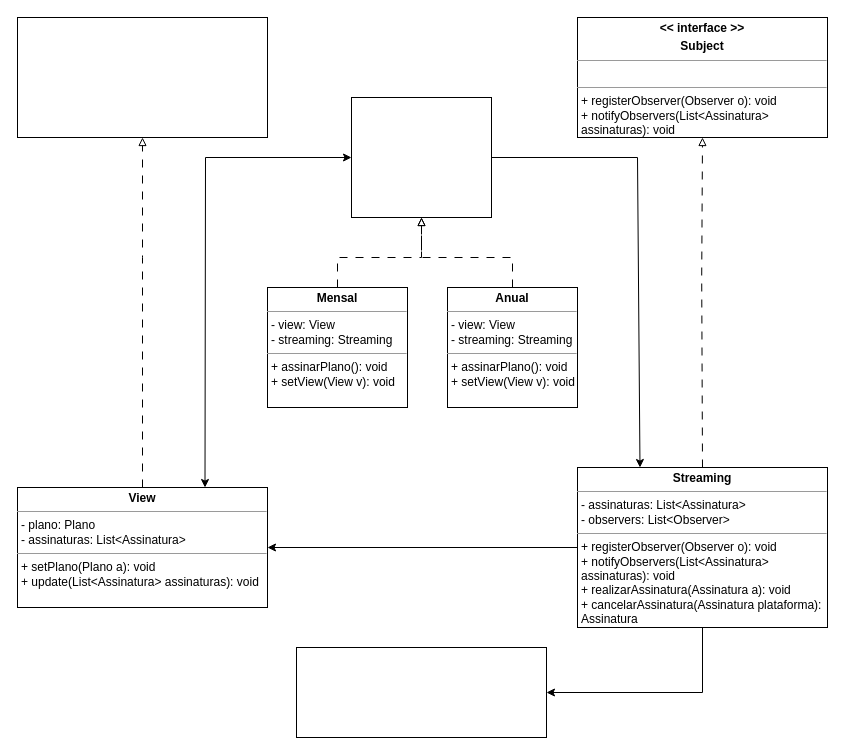
Image size: 845x755. Some labels were removed from this diagram. Here are the shapes that lost their labels. From the top down, the centre of each, then its label:
At pixel 142 77: "<< interface >> Observer + update(List<Assinatura> assinaturas): void".
At pixel 421 157: "<< interface >> Plano - view: View - streaming: Streaming + assinarPlano(): void".
At pixel 421 692: "Assinatura - plataforma: string + getPlataforma(): String".
